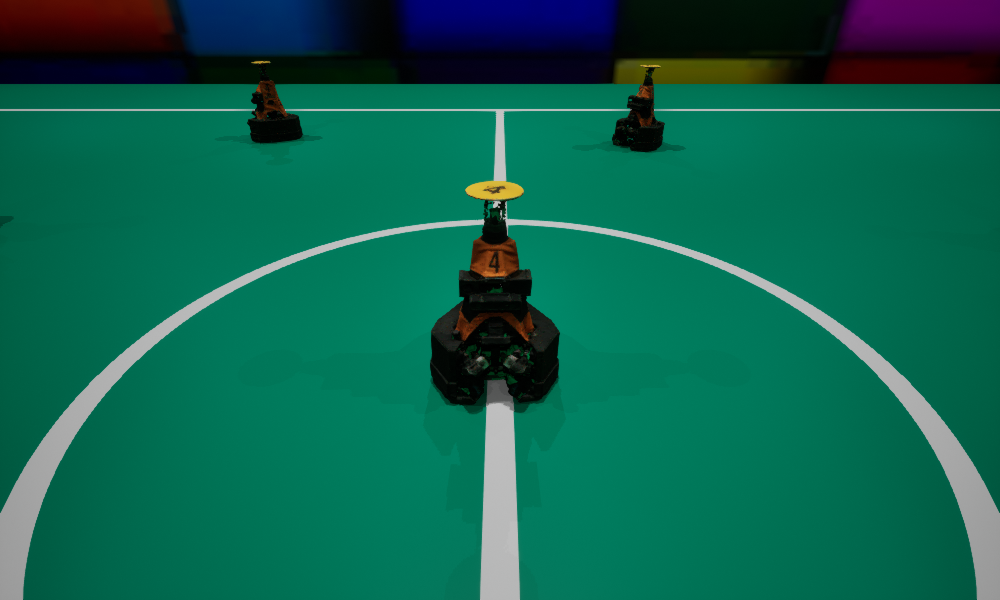o: (430, 181, 559, 404), (247, 61, 302, 142), (612, 65, 664, 150)
